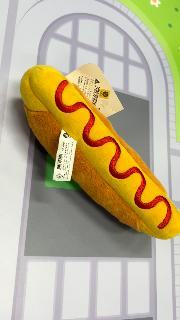hotdog: (21, 64, 180, 240)
